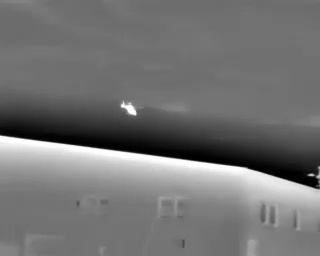HELICOPTER: (117, 96, 149, 122)
